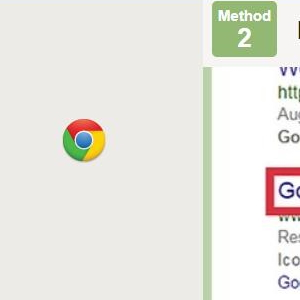chrome: (62, 118, 106, 163)
